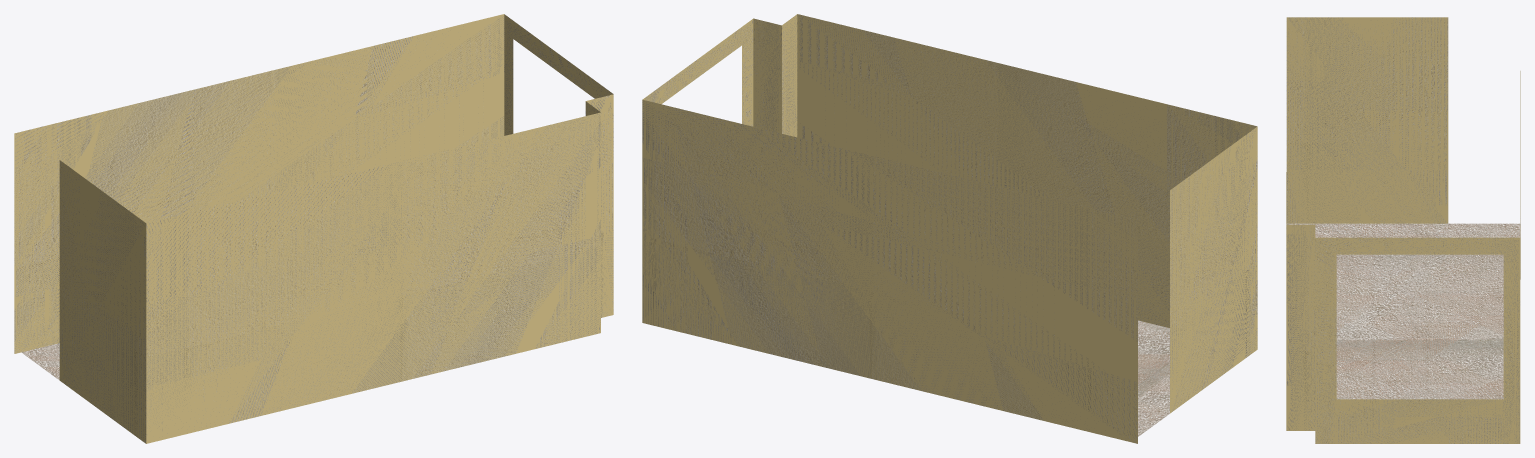
The model's file is DES010.obj.
3 renders of one model, left to right at view 1: azimuth 30°, elevation 25°; view 2: azimuth 150°, elevation 25°; view 3: azimuth 270°, elevation 25°, orthographic. The views are drawn at different scales.
Visible parts, largest first — view 1: Mesh1 DES010 Model; view 2: Mesh1 DES010 Model; view 3: Mesh1 DES010 Model.
Part boxes in pixels (x1,y1,x2,y2): Mesh1 DES010 Model: [14, 14, 613, 443]; Mesh1 DES010 Model: [642, 14, 1257, 443]; Mesh1 DES010 Model: [1286, 17, 1520, 443].
Size of the model in its own units: 6.97 by 3 by 3.08.
3 materials, 2 textured.
